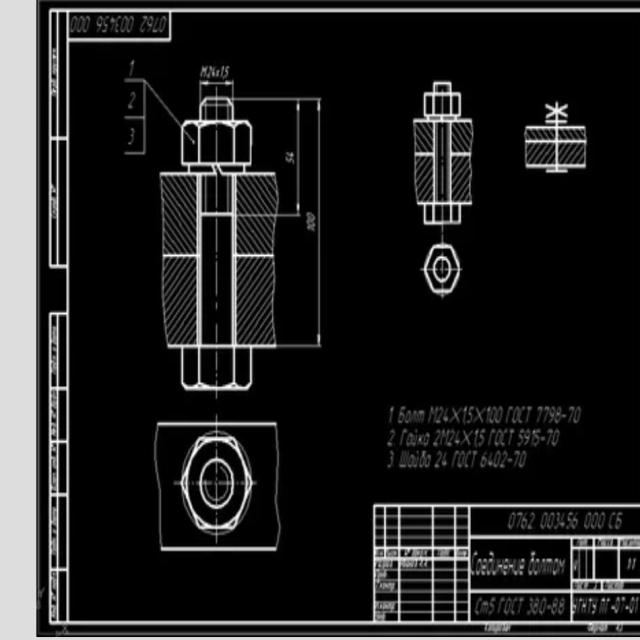marking_line: (314, 102, 323, 348), (295, 98, 302, 213)
